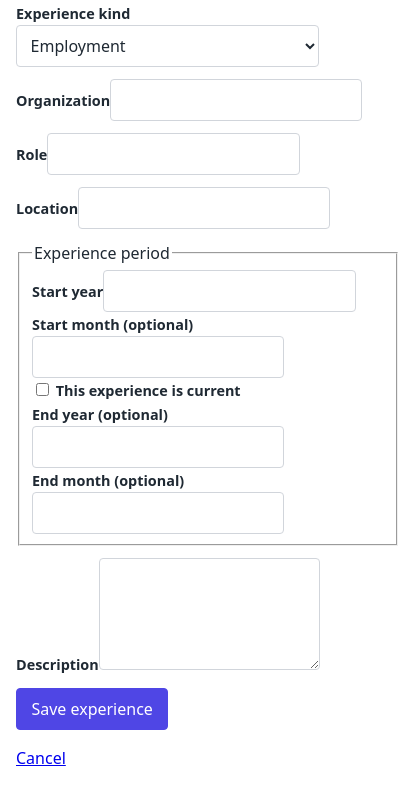
Test: ExperienceEditorPage › shows an accessible validation summary for required and period fields
(page scrolled)
Step 1. Click the button "Save experience" → (92, 709), box [16,688,168,730]
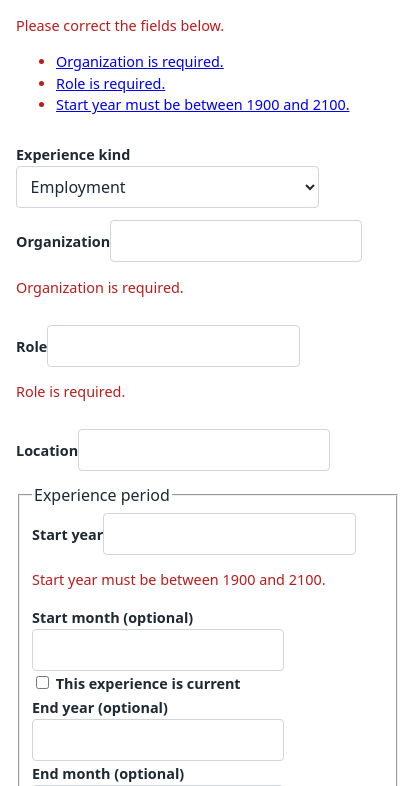
Expected: the message that starts with "Please correct the fields below." shows "Organization is required", [56,52,224,71]
